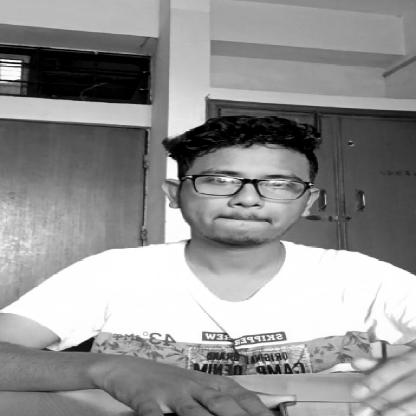Normal: (161, 118, 317, 242)
